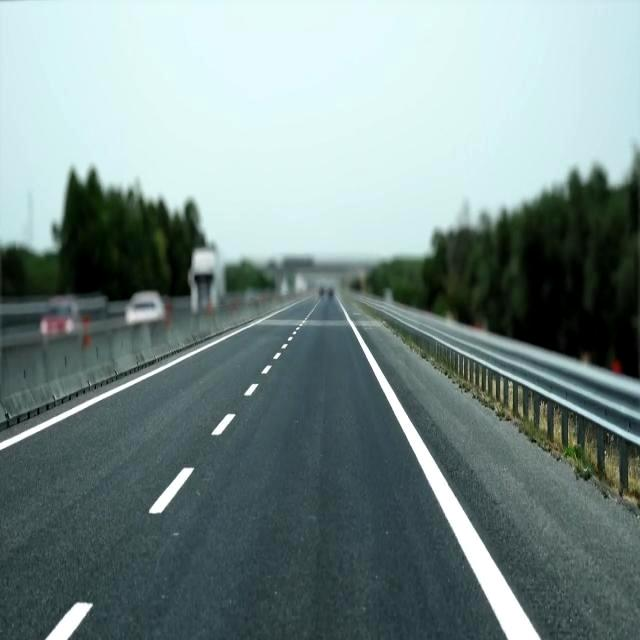lane: (338, 299, 541, 639), (0, 301, 304, 451), (149, 468, 193, 514), (45, 602, 92, 639), (211, 414, 234, 436)
road: (0, 298, 506, 639), (358, 326, 639, 639)
